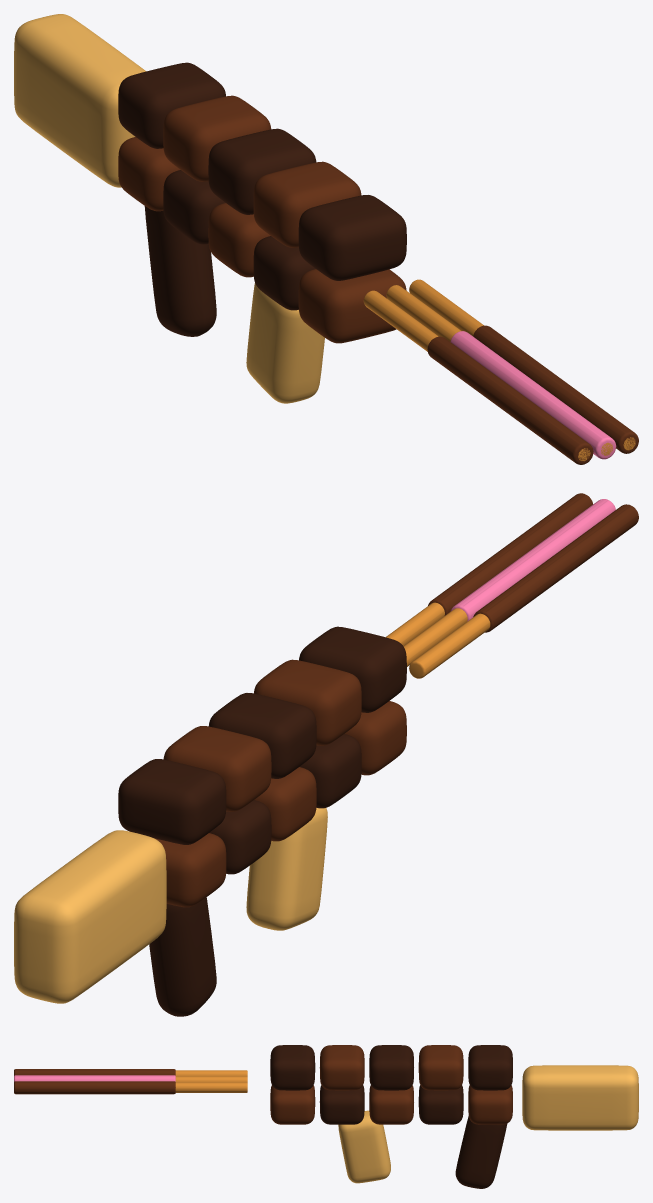
The picture shows the model from 3 angles, top to bottom: view 1: azimuth 30°, elevation 25°; view 2: azimuth 150°, elevation 25°; view 3: azimuth 270°, elevation 25°; orthographic projection. The views are drawn at different scales.
Parts seen in each view (by area): view 1: Cube.011, Cube.009, Cube.012, Cube.010, Cube.004, Cube.006, Cube.005, Cube.007, Cube.008, Cylinder.001, Cylinder.003, Cylinder.005 (+7 smaller); view 2: Cube.011, Cube.005, Cube.010, Cube.012, Cube.009, Cube.006, Cube.008, Cube.007, Cylinder.001, Cube, Cylinder.003, Cylinder.005 (+7 smaller); view 3: Cube.011, Cube.010, Cube.012, Cylinder.005, Cube.006, Cube.009, Cube.007, Cube.008, Cube.005, Cube.004, Cube.001, Cube.003 (+7 smaller).
Boxes of the visible parts, left/top/right/bottom form: Cube.011: left=14, top=14, right=146, bottom=187; Cube.009: left=298, top=195, right=406, bottom=280; Cube.012: left=144, top=206, right=216, bottom=336; Cube.010: left=246, top=283, right=324, bottom=403; Cube.004: left=298, top=269, right=406, bottom=343; Cube.006: left=163, top=95, right=271, bottom=181; Cube.005: left=118, top=62, right=225, bottom=148; Cube.007: left=208, top=128, right=316, bottom=214; Cube.008: left=253, top=161, right=361, bottom=247; Cylinder.001: left=427, top=336, right=593, bottom=464; Cylinder.003: left=450, top=331, right=616, bottom=459; Cylinder.005: left=473, top=325, right=638, bottom=453; Cube.011: left=14, top=830, right=166, bottom=1003; Cube.005: left=118, top=759, right=226, bottom=844; Cube.010: left=246, top=808, right=327, bottom=930; Cube.012: left=149, top=897, right=216, bottom=1016; Cube.009: left=299, top=626, right=406, bottom=712; Cube.006: left=163, top=726, right=271, bottom=811; Cube.008: left=254, top=659, right=361, bottom=745; Cube.007: left=208, top=693, right=316, bottom=778; Cylinder.001: left=473, top=504, right=638, bottom=632; Cube: left=154, top=833, right=226, bottom=907; Cylinder.003: left=450, top=499, right=615, bottom=621; Cylinder.005: left=428, top=493, right=592, bottom=615; Cube.011: left=522, top=1065, right=638, bottom=1130; Cube.010: left=338, top=1110, right=390, bottom=1183; Cube.012: left=455, top=1116, right=507, bottom=1188; Cylinder.005: left=14, top=1081, right=175, bottom=1094; Cube.006: left=418, top=1045, right=463, bottom=1090; Cube.009: left=270, top=1045, right=315, bottom=1090; Cube.007: left=369, top=1045, right=413, bottom=1090; Cube.008: left=319, top=1045, right=364, bottom=1090; Cube.005: left=468, top=1045, right=512, bottom=1090; Cube.004: left=270, top=1085, right=315, bottom=1124; Cube.001: left=418, top=1085, right=463, bottom=1124; Cube.003: left=319, top=1085, right=364, bottom=1124.
Size of the model in its own units: 0.0579 by 0.1662 by 0.6949.
